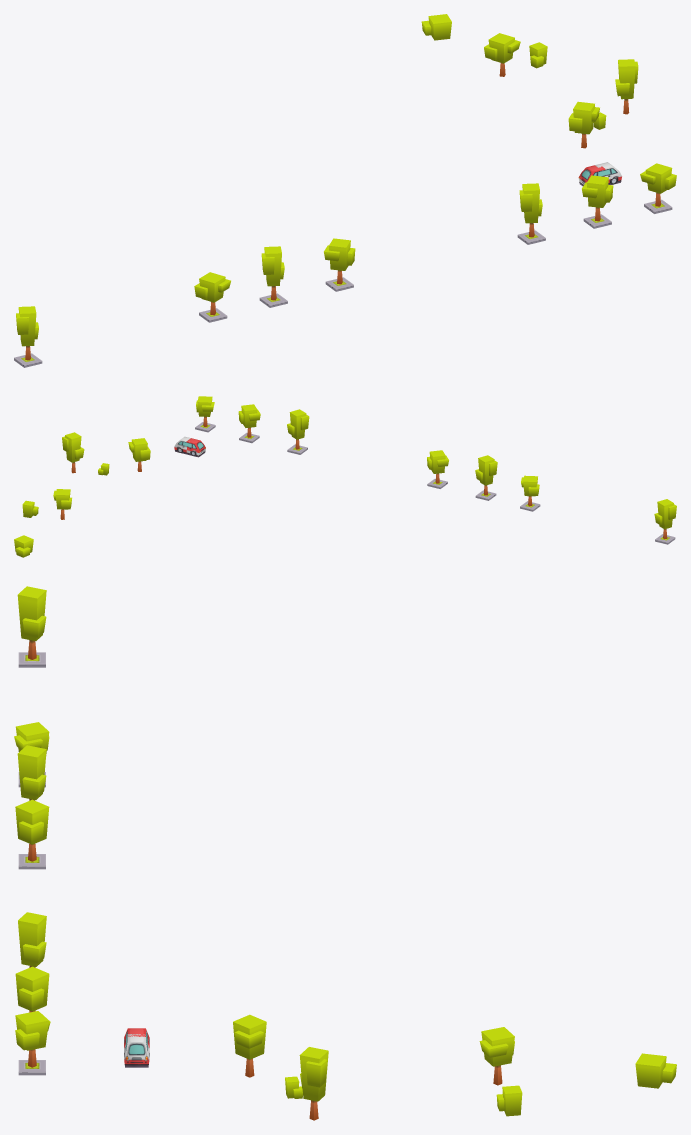
File: exterior.glb
3 renders of one model, top to bottom at view 1: azimuth 30°, elevation 25°; view 2: azimuth 150°, elevation 25°; view 3: azimuth 270°, elevation 25°, orthographic. The views are drawn at different scales.
Visible parts, largest first — view 1: trees; view 2: trees, car_b; view 3: trees.
Part boxes in pixels (x1,y1,x2,y2): trees: (14, 14, 676, 367); trees: (14, 396, 676, 557); car_b: (174, 438, 205, 456); trees: (14, 586, 676, 1120).
Size of what is drawn, in the model's own units: 81.77 by 5.85 by 48.4.
1 material, 1 textured.
